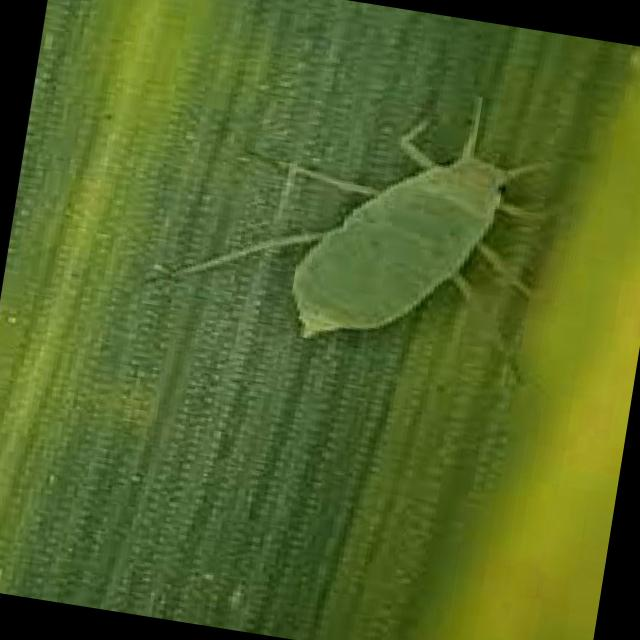aphid: (140, 44, 606, 418)
